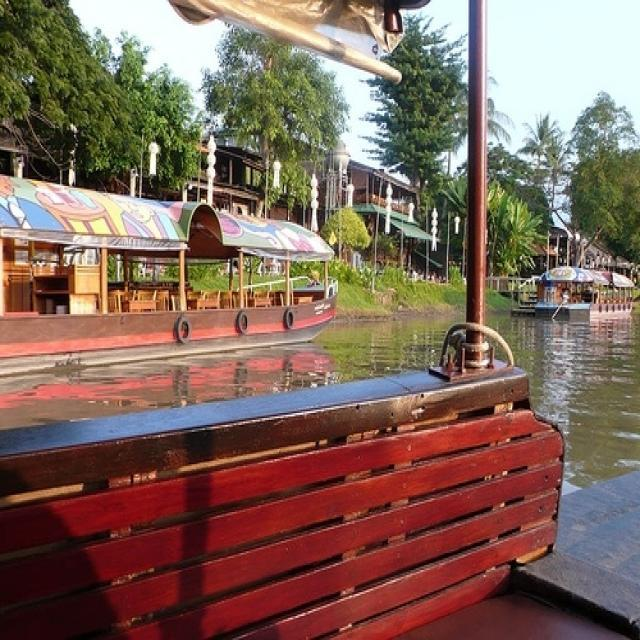boat: (67, 182, 347, 356), (530, 262, 636, 322)
